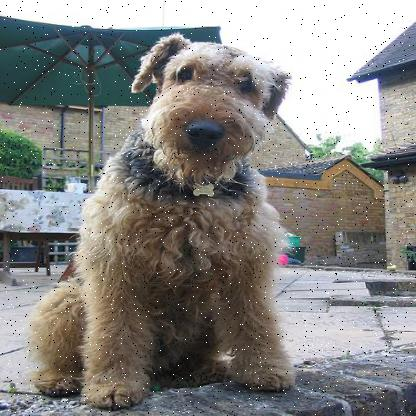dog: (55, 34, 310, 402)
